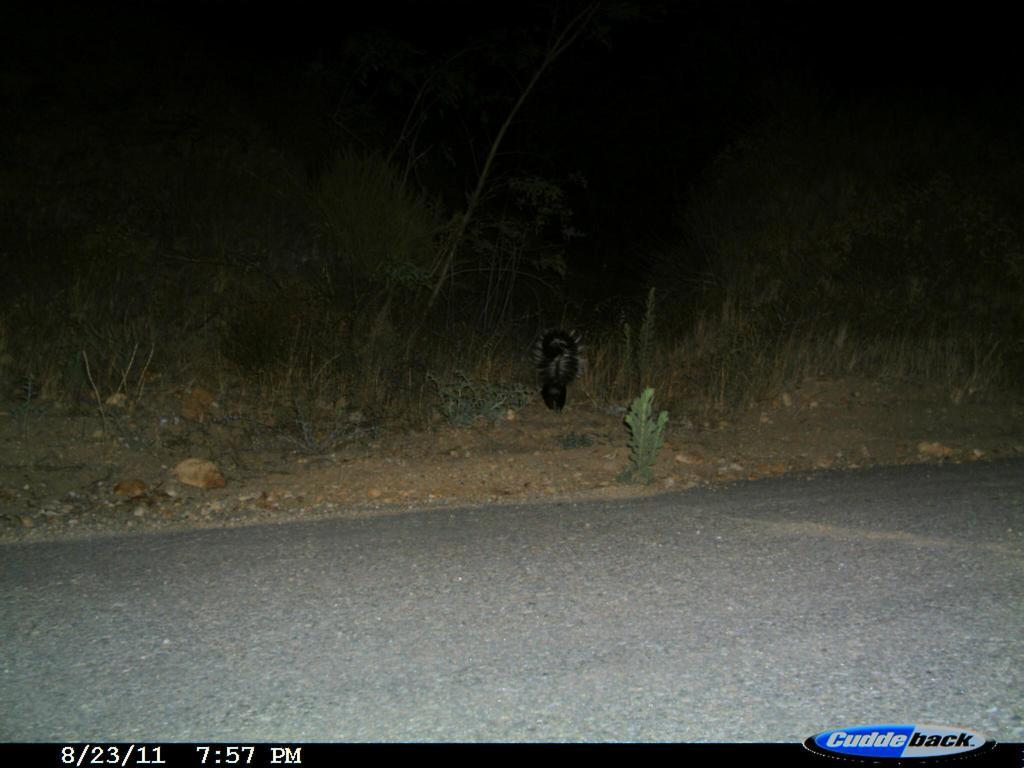skunk: (532, 327, 589, 414)
